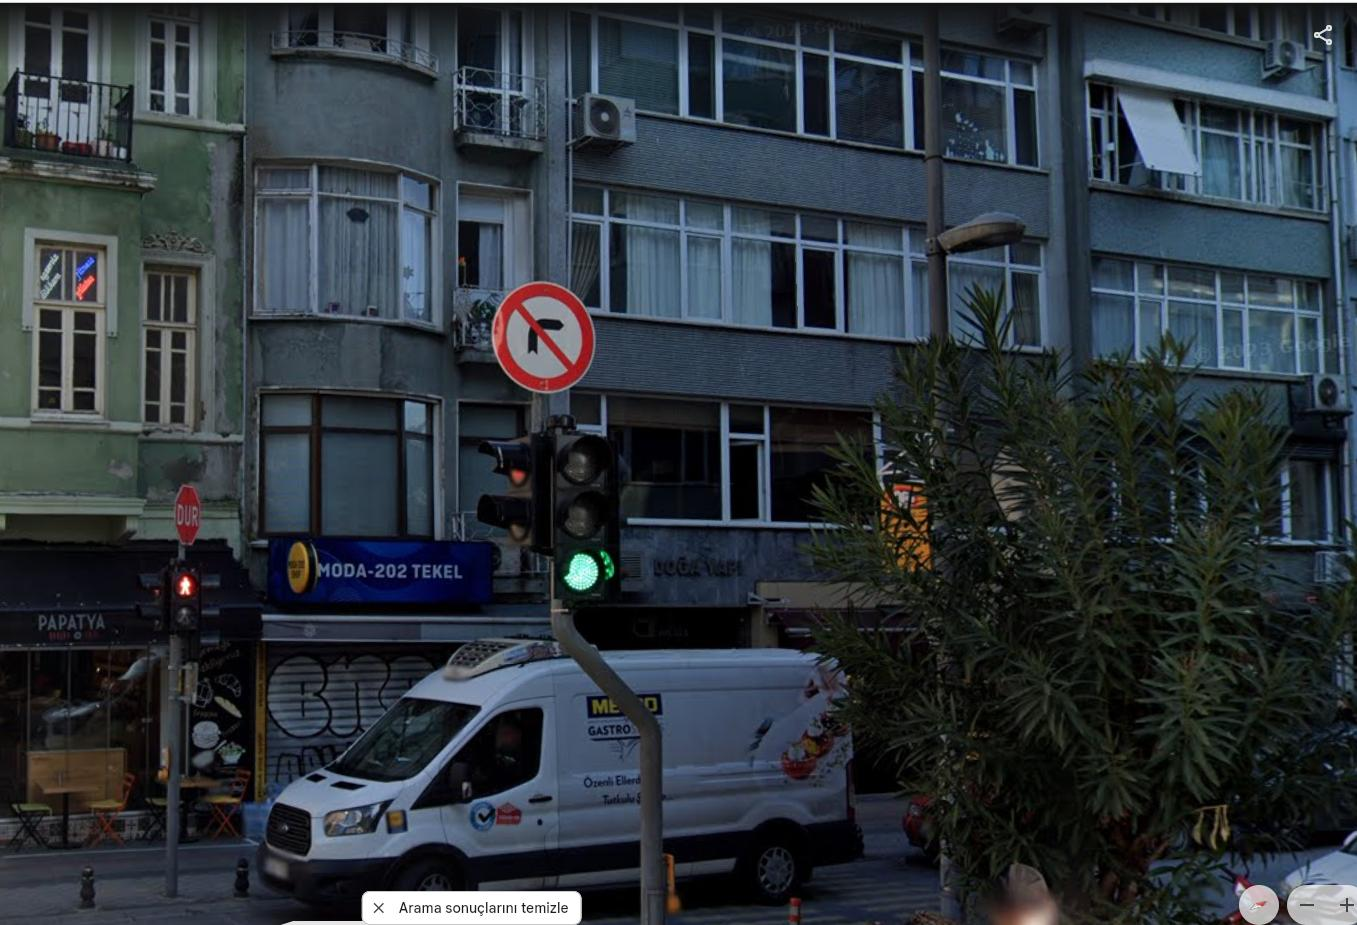greenlight: (554, 431, 619, 599)
rightturnsareforbidden: (497, 282, 593, 392)
